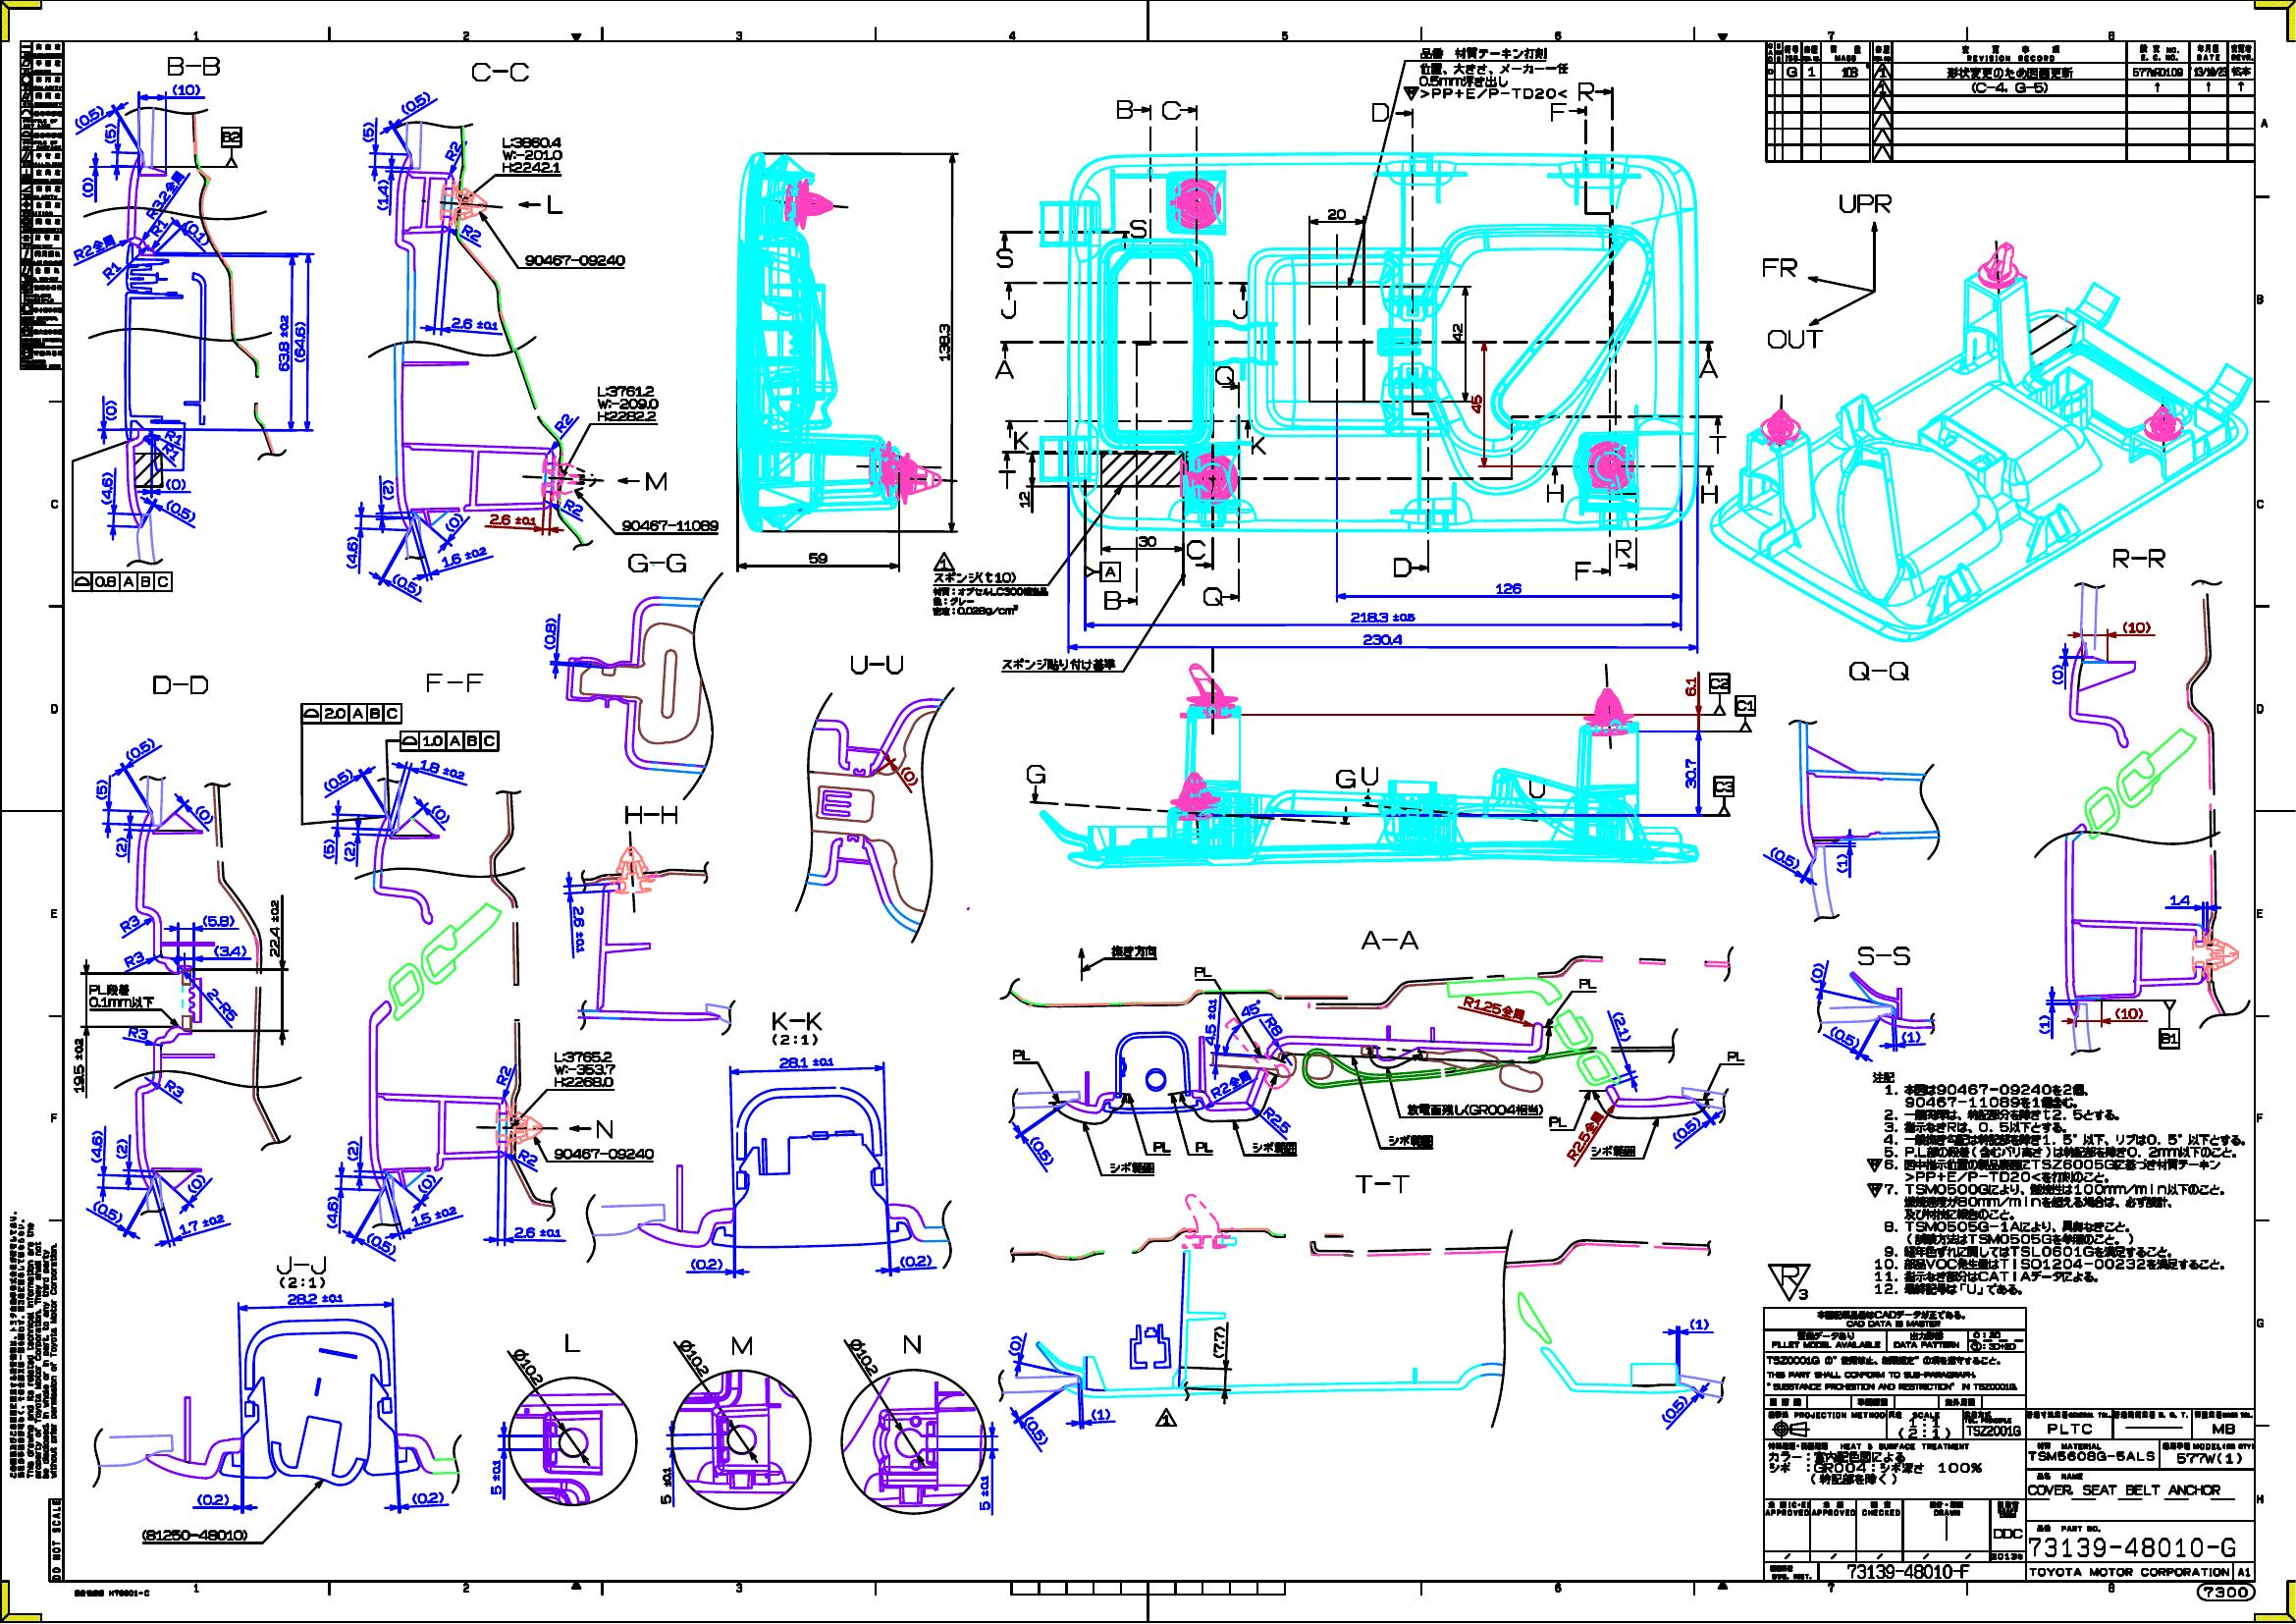anntotation_text: (1866, 1070, 2245, 1295), (7, 1211, 58, 1478), (1402, 46, 1569, 98), (931, 550, 1049, 617), (594, 383, 659, 422), (1405, 1102, 1544, 1116), (399, 731, 499, 750), (72, 571, 172, 591), (276, 1253, 327, 1290), (1767, 1262, 1813, 1302), (771, 1011, 822, 1046), (300, 705, 401, 722), (1001, 657, 1116, 671), (141, 1527, 248, 1541), (523, 253, 625, 267), (1358, 928, 1419, 951), (622, 517, 720, 531), (1848, 661, 1910, 682), (151, 673, 207, 696), (553, 1148, 655, 1160), (1838, 192, 1892, 214), (2112, 545, 2166, 568), (1857, 944, 1911, 967), (627, 554, 689, 573), (1767, 329, 1823, 350), (848, 654, 903, 675), (1354, 1172, 1409, 1193), (471, 62, 529, 81), (427, 673, 483, 692), (624, 805, 678, 824), (167, 56, 221, 76), (2196, 1584, 2256, 1601), (72, 1587, 149, 1598), (1760, 257, 1797, 278), (1463, 1002, 1525, 1014), (158, 165, 170, 223), (1578, 1107, 1590, 1164), (70, 239, 119, 253), (1108, 1160, 1154, 1174), (729, 1332, 754, 1357), (1251, 1141, 1298, 1153), (1110, 944, 1158, 956), (1590, 1144, 1635, 1156), (1388, 1134, 1433, 1146), (899, 1332, 922, 1355), (1154, 1406, 1177, 1429), (645, 471, 669, 492), (1209, 1077, 1251, 1090), (562, 1332, 583, 1355), (216, 984, 228, 1023), (1335, 768, 1356, 789), (2159, 1028, 2180, 1049), (1024, 765, 1047, 784), (1576, 81, 1595, 104), (1214, 366, 1237, 385), (1713, 777, 1734, 796), (1708, 434, 1727, 455), (1100, 562, 1121, 582), (994, 359, 1014, 380), (1159, 100, 1180, 120), (1272, 1104, 1284, 1135), (1360, 765, 1379, 784), (1736, 696, 1755, 715), (1709, 673, 1729, 692), (1699, 359, 1718, 378), (1393, 557, 1412, 576), (1203, 587, 1223, 606), (1186, 540, 1205, 559), (221, 127, 241, 146), (1700, 483, 1718, 504), (996, 248, 1014, 269), (1116, 98, 1133, 120), (1549, 102, 1567, 123), (596, 1118, 613, 1139), (546, 193, 564, 214), (1528, 779, 1546, 798), (1546, 483, 1563, 503), (1103, 591, 1121, 610), (1012, 431, 1029, 450), (1372, 102, 1390, 121), (1000, 299, 1015, 320), (1231, 299, 1247, 320), (1251, 434, 1267, 455), (446, 139, 460, 162), (1614, 540, 1632, 557), (1130, 220, 1147, 237), (1574, 561, 1590, 580), (522, 1146, 534, 1169), (1267, 1016, 1281, 1035), (462, 225, 481, 239), (123, 953, 144, 965), (557, 411, 569, 432), (132, 1023, 144, 1042), (1195, 1141, 1214, 1153), (1152, 1141, 1172, 1153), (497, 1065, 509, 1084), (567, 497, 580, 517), (163, 431, 183, 443), (119, 917, 141, 928), (169, 1077, 179, 1098), (1727, 1049, 1744, 1062), (1579, 977, 1597, 990), (153, 218, 165, 236), (1548, 1116, 1567, 1127), (1012, 1049, 1031, 1060), (105, 260, 116, 279), (162, 446, 181, 457)
dimension_text: (553, 1051, 615, 1088), (501, 137, 562, 172), (88, 982, 153, 1007), (72, 1037, 86, 1093), (1349, 612, 1416, 622), (286, 1292, 343, 1304), (778, 1056, 834, 1069), (278, 315, 290, 371), (450, 316, 499, 330), (439, 548, 488, 562), (857, 1336, 873, 1378), (687, 1336, 703, 1378), (573, 905, 587, 953), (269, 900, 279, 958), (179, 1216, 228, 1229), (411, 1209, 460, 1222), (522, 1345, 536, 1387), (1203, 998, 1216, 1046), (420, 763, 467, 775), (488, 513, 536, 526), (293, 322, 306, 362), (1363, 633, 1404, 645), (390, 576, 425, 591), (515, 1227, 560, 1237), (938, 322, 950, 360), (1667, 1392, 1681, 1425), (374, 1227, 388, 1260), (899, 1253, 933, 1267), (1767, 851, 1801, 865), (181, 225, 213, 239), (978, 1475, 991, 1510), (490, 1459, 502, 1494), (1036, 1134, 1049, 1167), (411, 1492, 444, 1504), (90, 1206, 123, 1218), (90, 1128, 102, 1162), (213, 944, 246, 956), (202, 914, 235, 926), (123, 743, 156, 756), (321, 773, 355, 786), (100, 471, 112, 504), (72, 111, 105, 123), (661, 1466, 671, 1504), (1829, 1030, 1860, 1042), (1212, 1325, 1224, 1357), (1029, 1415, 1042, 1446), (1685, 758, 1697, 789), (165, 504, 197, 517), (376, 179, 388, 211), (327, 1195, 337, 1229), (545, 617, 555, 650), (399, 97, 432, 107), (172, 83, 200, 95), (1495, 582, 1523, 594), (2122, 620, 2150, 633), (2115, 1005, 2143, 1018), (1240, 998, 1260, 1016), (1616, 1011, 1627, 1042), (197, 1494, 228, 1504), (690, 1258, 722, 1269), (346, 536, 357, 568), (346, 1139, 360, 1162), (1809, 961, 1823, 982), (114, 1137, 128, 1158), (321, 838, 336, 858), (808, 550, 827, 564), (190, 1172, 202, 1193), (114, 837, 126, 858), (95, 779, 107, 800), (1836, 852, 1848, 874), (1685, 677, 1697, 698), (903, 765, 915, 786), (165, 478, 186, 490), (104, 123, 116, 144), (362, 121, 374, 142), (448, 511, 460, 533), (2050, 664, 2062, 685), (2170, 893, 2191, 905), (1017, 490, 1031, 508), (1008, 1336, 1021, 1355), (199, 805, 211, 824), (343, 842, 355, 861), (420, 1174, 432, 1193), (81, 178, 93, 197), (381, 480, 393, 499), (1470, 394, 1483, 413), (1451, 322, 1463, 341), (1326, 207, 1346, 220), (1901, 1032, 1922, 1042), (1091, 1408, 1112, 1418), (436, 803, 446, 824), (105, 399, 116, 420), (2038, 1016, 2050, 1033), (1138, 534, 1156, 547), (1690, 1318, 1709, 1329)
object: (1038, 153, 1697, 531), (1708, 237, 2254, 642), (1000, 1190, 1725, 1399), (1038, 647, 1699, 868), (1010, 953, 1730, 1123), (736, 151, 957, 531), (367, 777, 553, 1223), (2064, 580, 2240, 1053), (393, 121, 583, 559), (123, 107, 274, 564), (134, 775, 279, 1211), (98, 1318, 460, 1487), (592, 1084, 950, 1243), (805, 698, 945, 933), (576, 828, 733, 1025), (1797, 719, 1941, 917), (566, 596, 706, 775), (840, 1367, 987, 1517), (671, 1369, 812, 1510), (508, 1376, 638, 1504), (1820, 972, 1936, 1028)
title_block: (1762, 1306, 2256, 1582), (1764, 40, 2256, 162), (19, 40, 63, 369)
